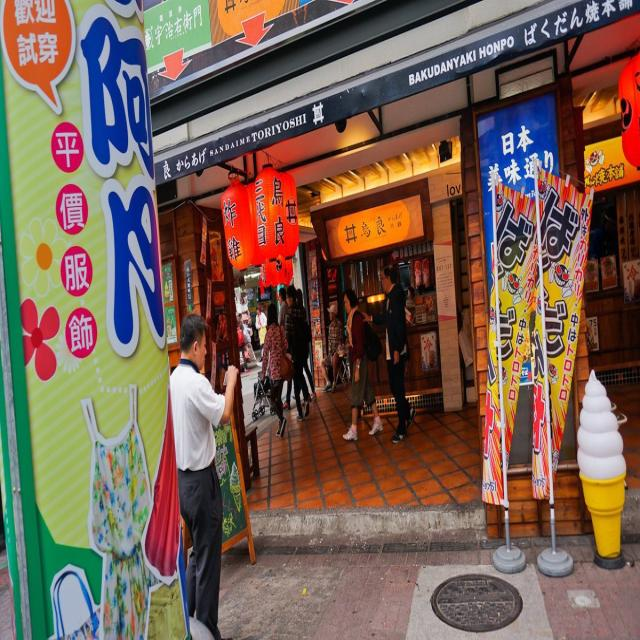body: (168, 311, 241, 640), (360, 259, 418, 446), (340, 287, 385, 446), (260, 301, 296, 440), (284, 283, 310, 423), (290, 286, 318, 402), (320, 303, 344, 394), (308, 250, 323, 366), (254, 303, 269, 356), (236, 315, 248, 372), (276, 287, 290, 330), (414, 257, 429, 284), (407, 287, 414, 297)
